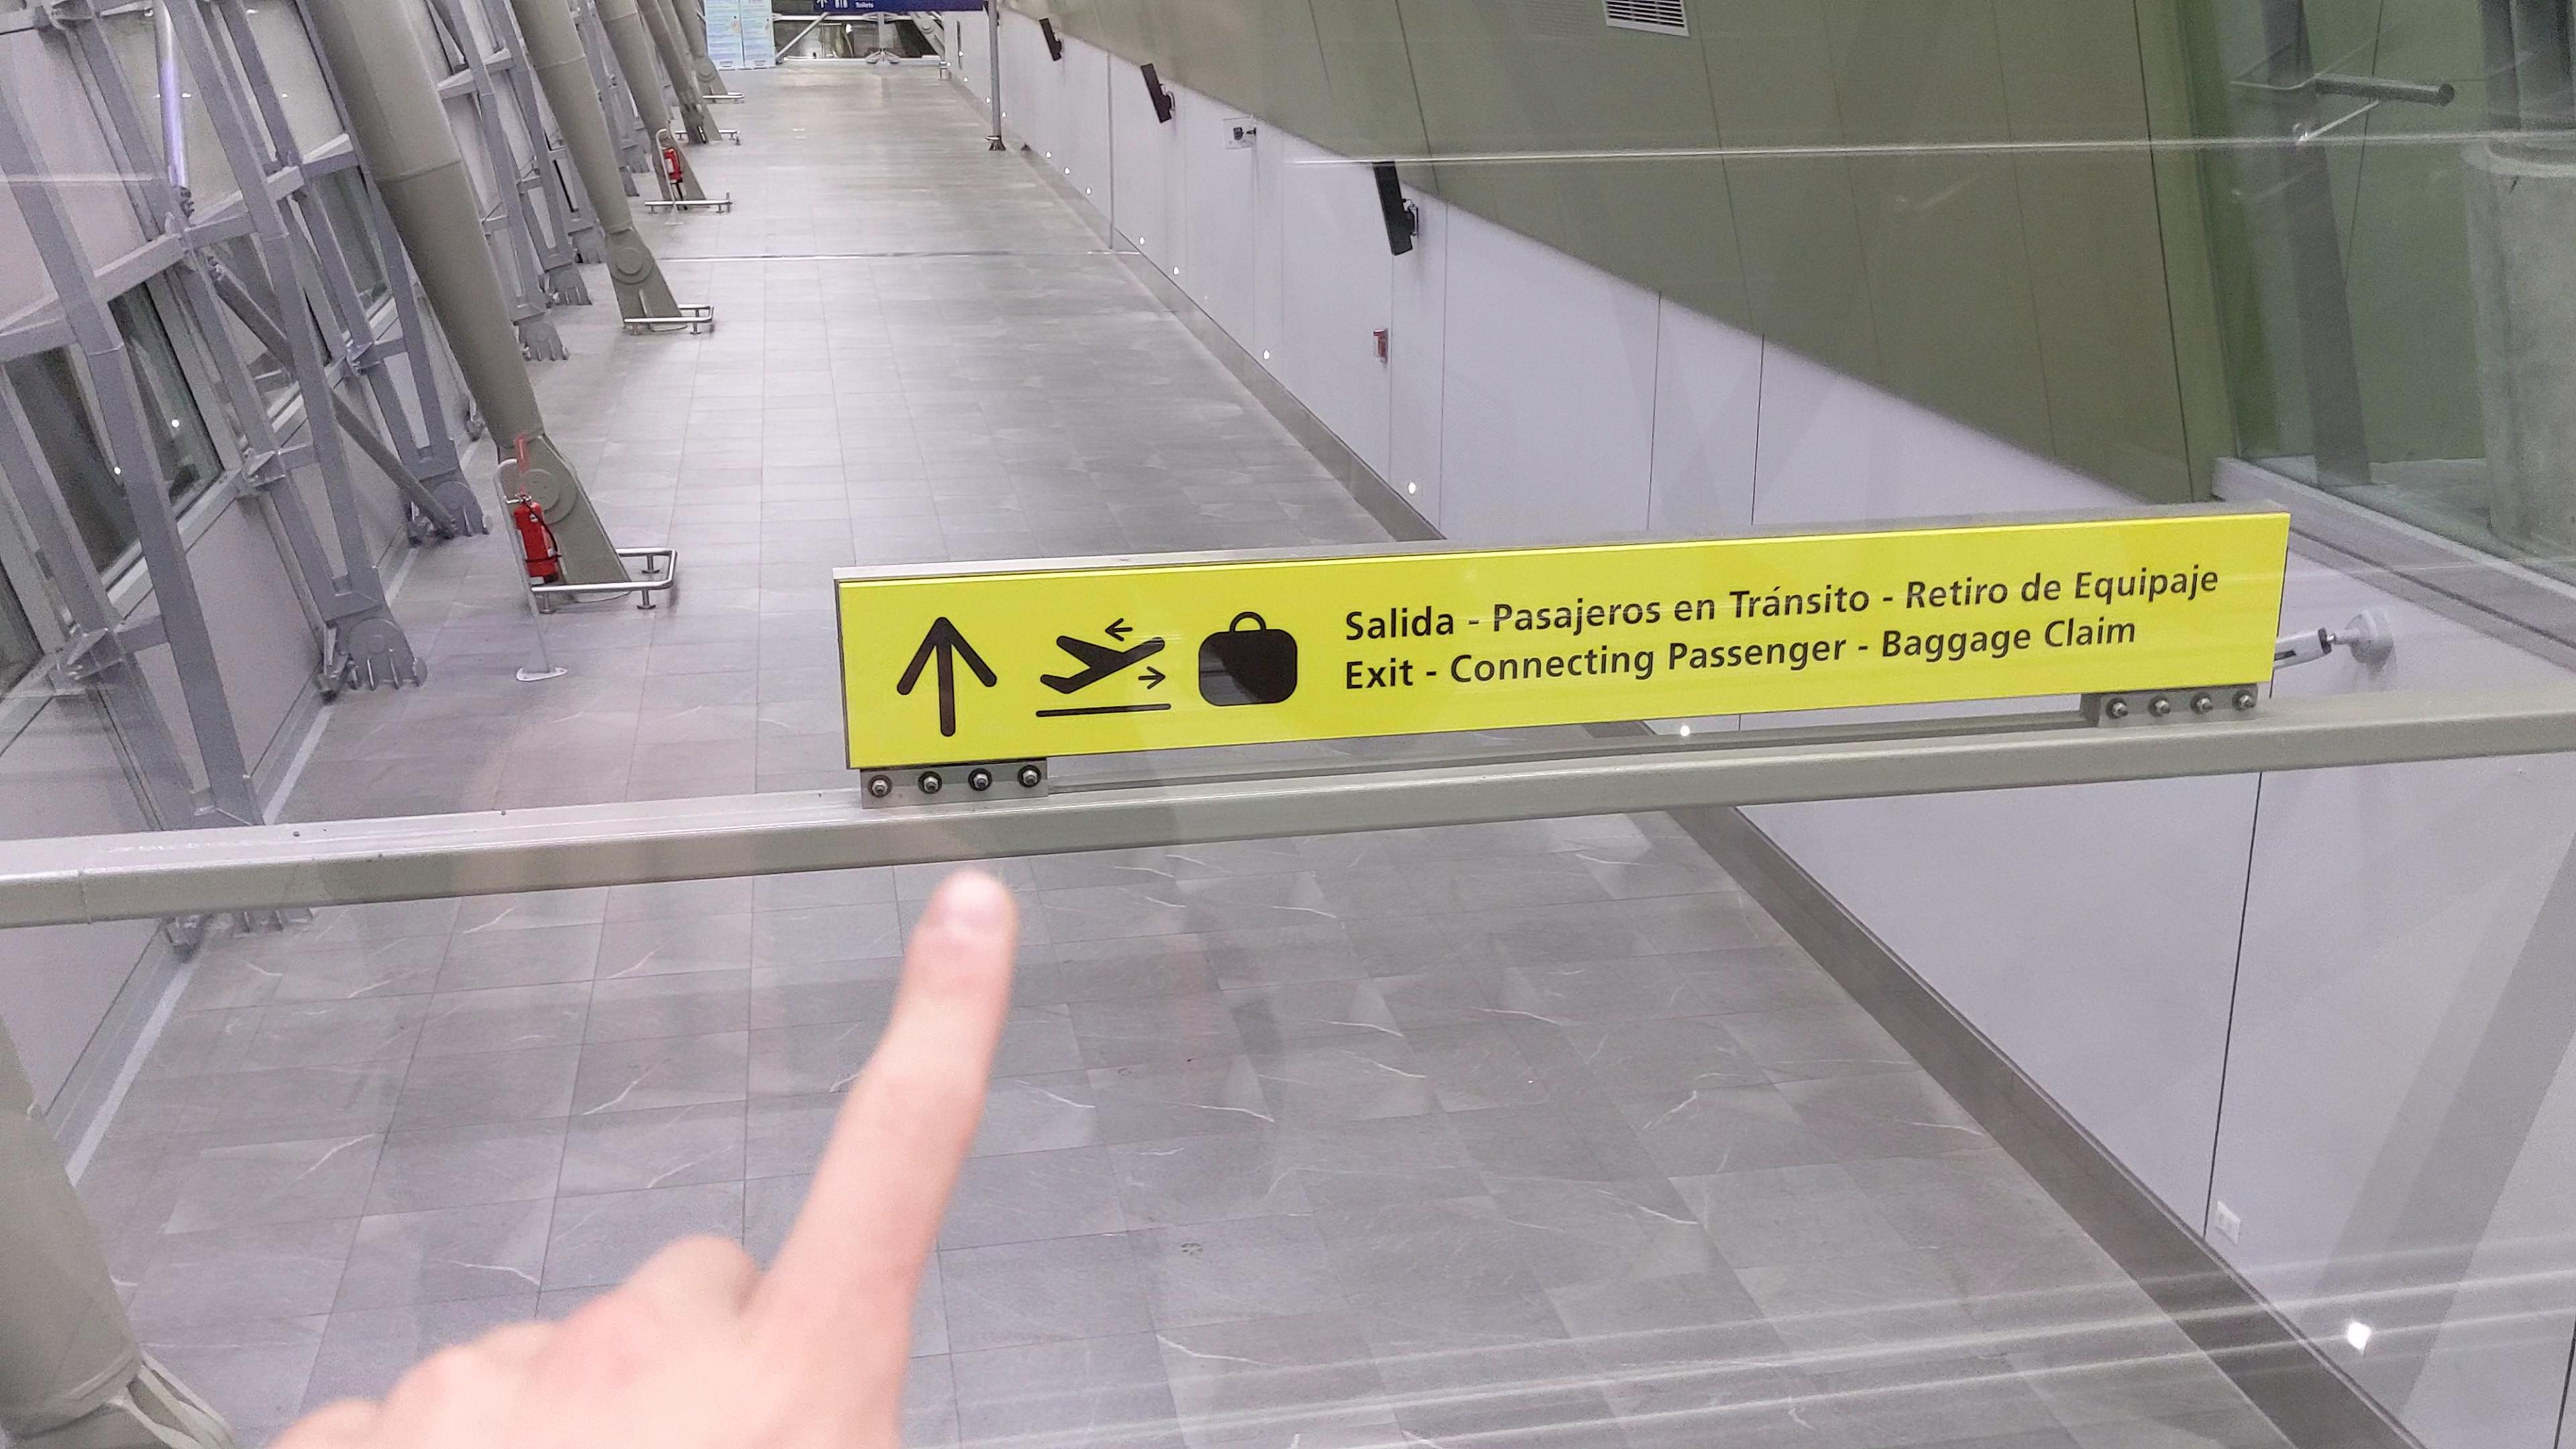airplane symbol: (1039, 626, 1171, 699)
baggage claim: (1196, 609, 1304, 711)
thin up arrow: (893, 614, 1001, 738)
